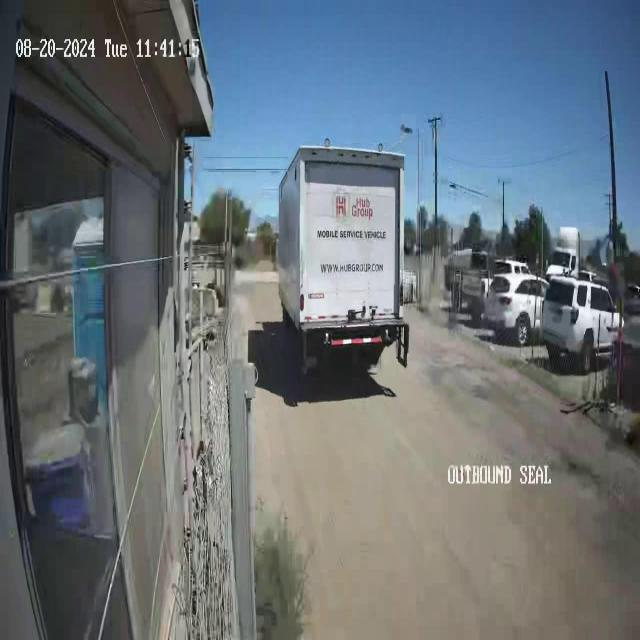TRUCK_OUT: (276, 142, 408, 374)
